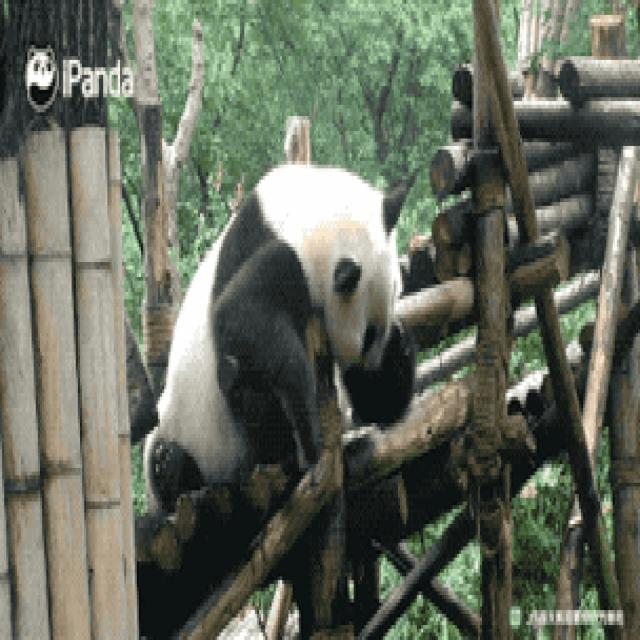panda: (146, 105, 466, 539)
